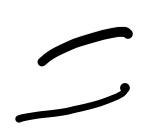eqv: (15, 27, 133, 124)
